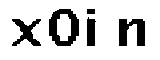0: (45, 7, 81, 47)
i: (85, 6, 108, 48)
n: (114, 15, 148, 50)
x: (6, 16, 42, 48)
